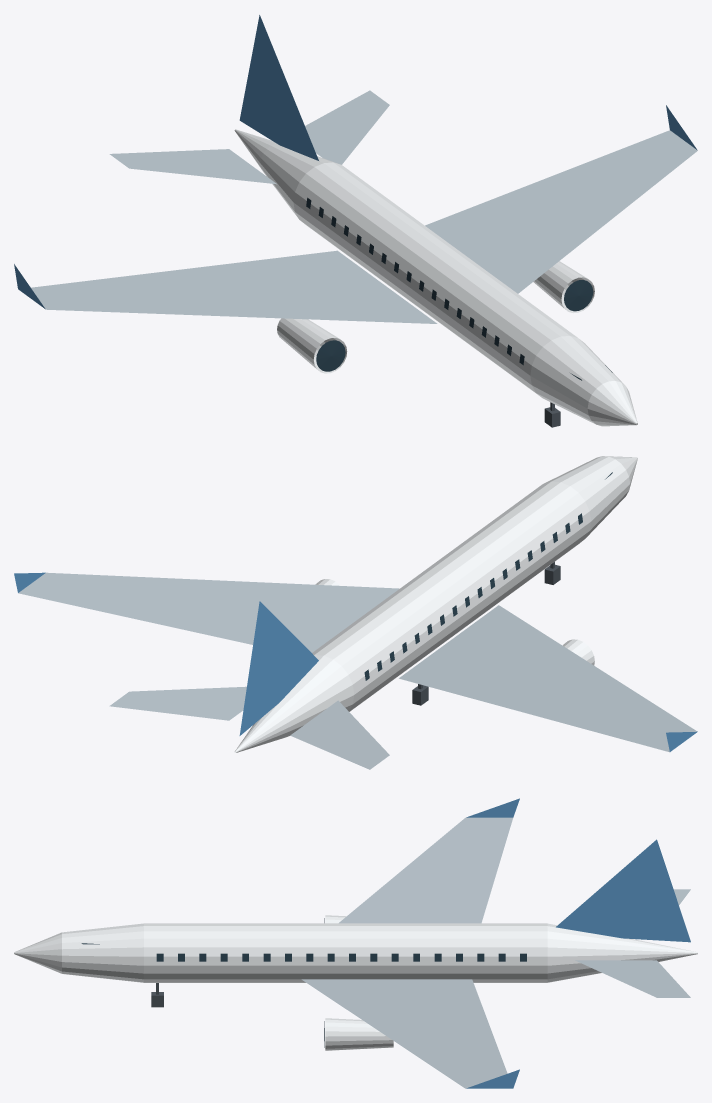
Rendered from a330-UAL.gltf.
3 views of the same model, one above another, from view 1: azimuth 30°, elevation 25°; view 2: azimuth 150°, elevation 25°; view 3: azimuth 270°, elevation 25° (orthographic). The views are drawn at different scales.
Visible parts, largest first — view 1: object 1; view 2: object 1, Gear; view 3: object 1.
Part boxes in pixels (box(x1,y1,x2,y2)): object 1: box(14, 15, 697, 426); object 1: box(14, 456, 697, 769); Gear: box(412, 562, 560, 705); object 1: box(14, 798, 697, 1088).
Size of the model in its own units: 60 by 17.16 by 64.
